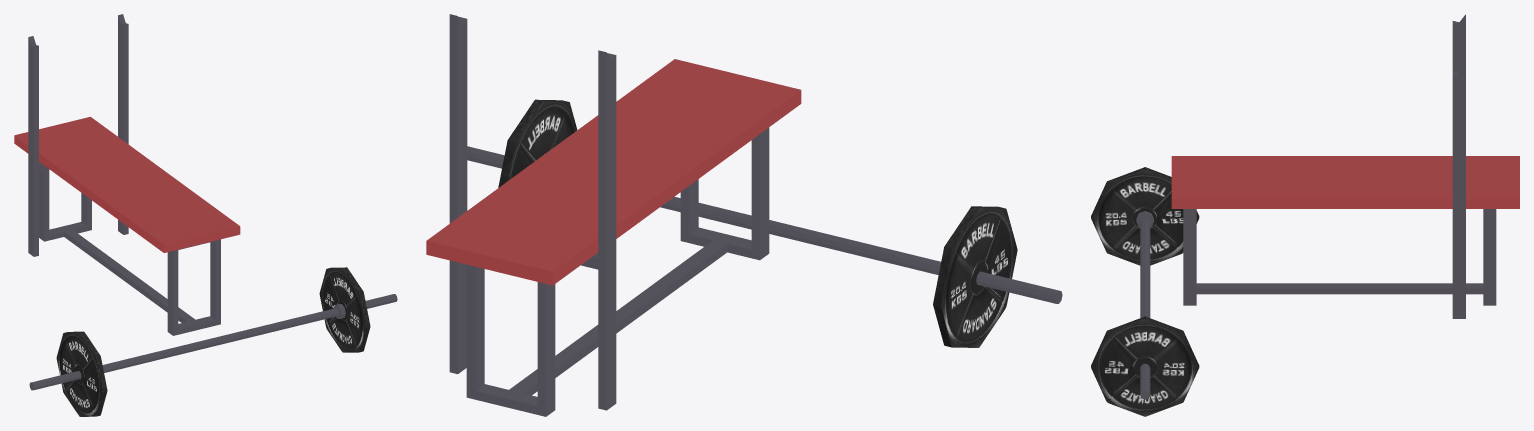
The model's file is CENARIO - academia.glb.
The picture shows the model from 3 angles, left to right: view 1: azimuth 30°, elevation 25°; view 2: azimuth 150°, elevation 25°; view 3: azimuth 270°, elevation 25°; orthographic projection. The views are drawn at different scales.
Parts seen in each view (by area): view 1: bench, barbell; view 2: bench, barbell; view 3: bench, barbell.
Boxes of the visible parts, bbox=[...] form: bench: bbox=[14, 14, 240, 335]; barbell: bbox=[29, 267, 397, 416]; bench: bbox=[426, 14, 801, 416]; barbell: bbox=[467, 99, 1062, 347]; bench: bbox=[1171, 14, 1519, 318]; barbell: bbox=[1091, 167, 1199, 416].
Size of what is drawn, in the model's own units: 180 by 122 by 158.
3 materials, 1 textured.
